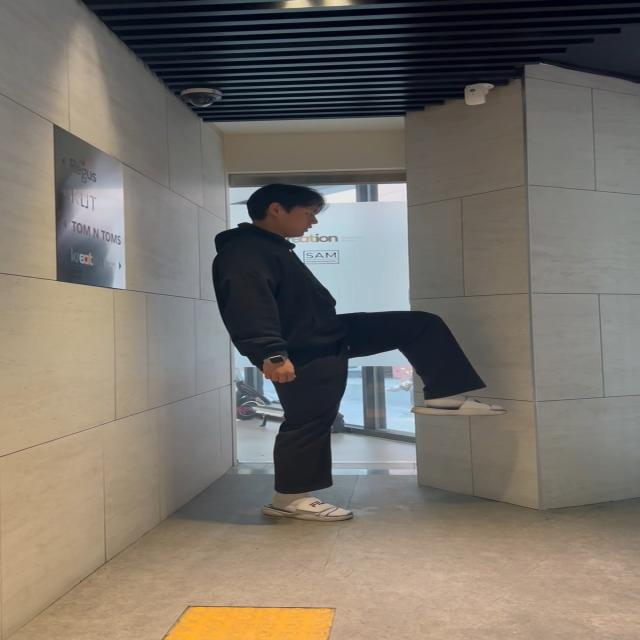knee: (345, 300, 531, 424)
